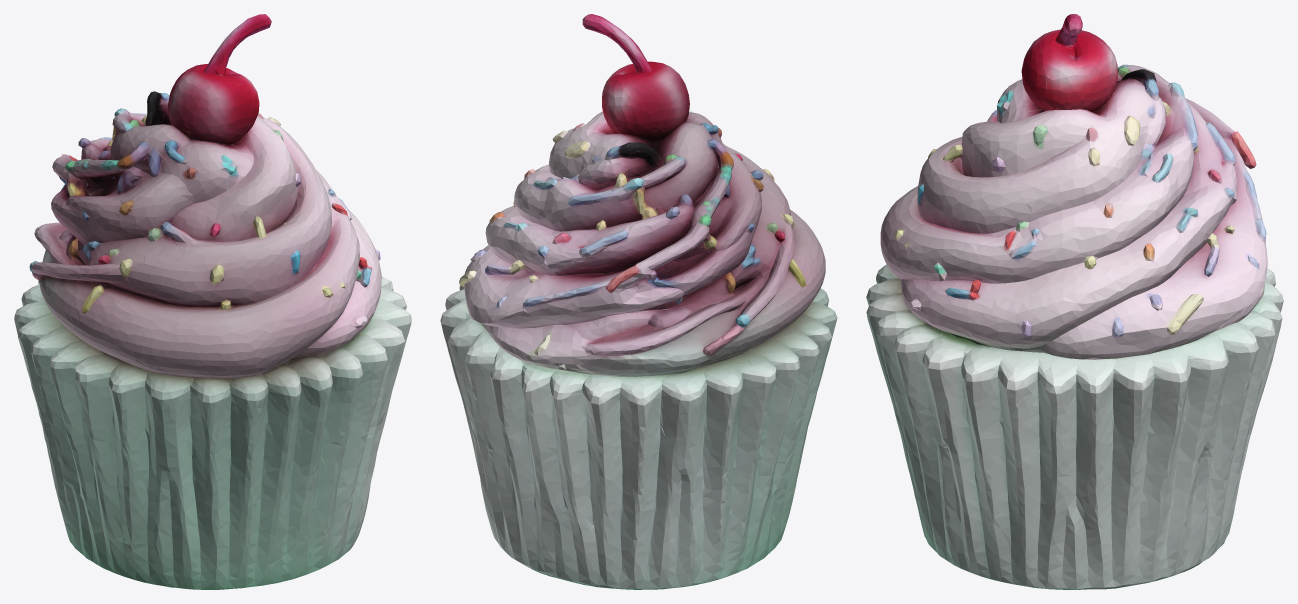
File: prop_cupcake.glb
3 renders of one model, left to right at view 1: azimuth 30°, elevation 25°; view 2: azimuth 150°, elevation 25°; view 3: azimuth 270°, elevation 25°, orthographic. The views are drawn at different scales.
Visible parts, largest first — view 1: world; view 2: world; view 3: world.
Boxes of the visible parts, x1,y1,x2,y2 form: world: [14, 14, 411, 589]; world: [440, 14, 837, 589]; world: [866, 14, 1283, 589].
Bounding box in the file's own units: 0.701 × 1 × 0.7007.
1 material, 1 textured.
